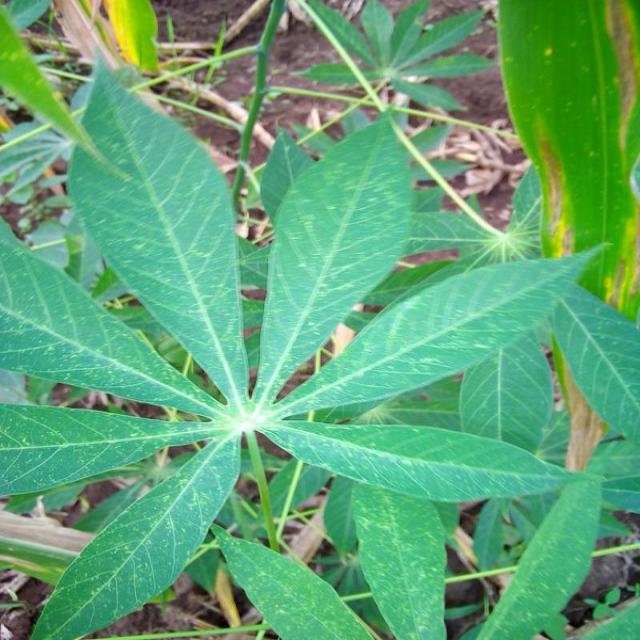cassava leaf: (2, 48, 638, 638), (66, 50, 250, 408), (254, 106, 415, 407), (497, 0, 640, 317), (30, 430, 243, 639)
